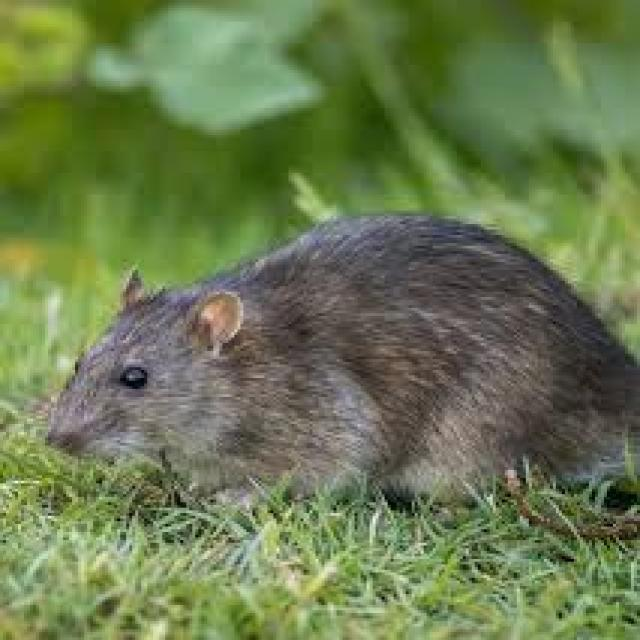Rat: (44, 119, 628, 543)
